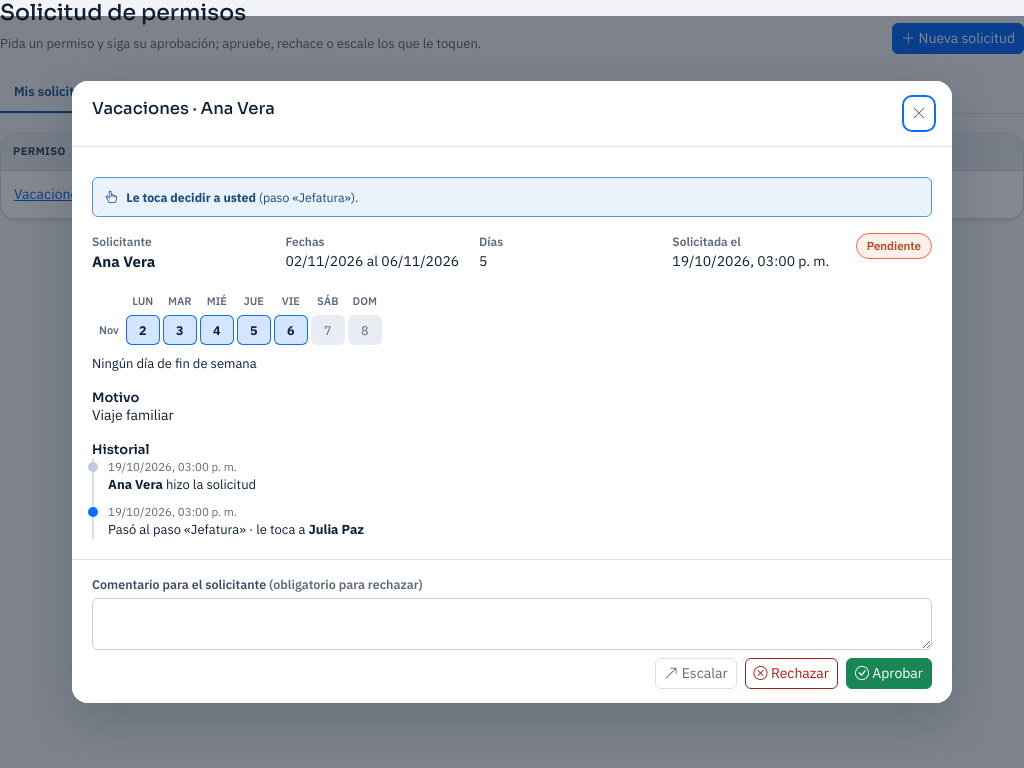
Test case: Solicitud de permisos › el detalle (desde el aviso de la campana) muestra el historial y deja aprobar
Expected: the text "Pasó al paso «Jefatura» · le toca a Julia Paz" is shown, 108,521 -> 364,538
Expected: the text "Le toca decidir a usted" is shown, 126,189 -> 256,205
Type "De acuerdo" into the text box labelled "Comentario para el solicitante (obligatorio para rechazar)" at [512, 624], box 92,598 -> 932,650
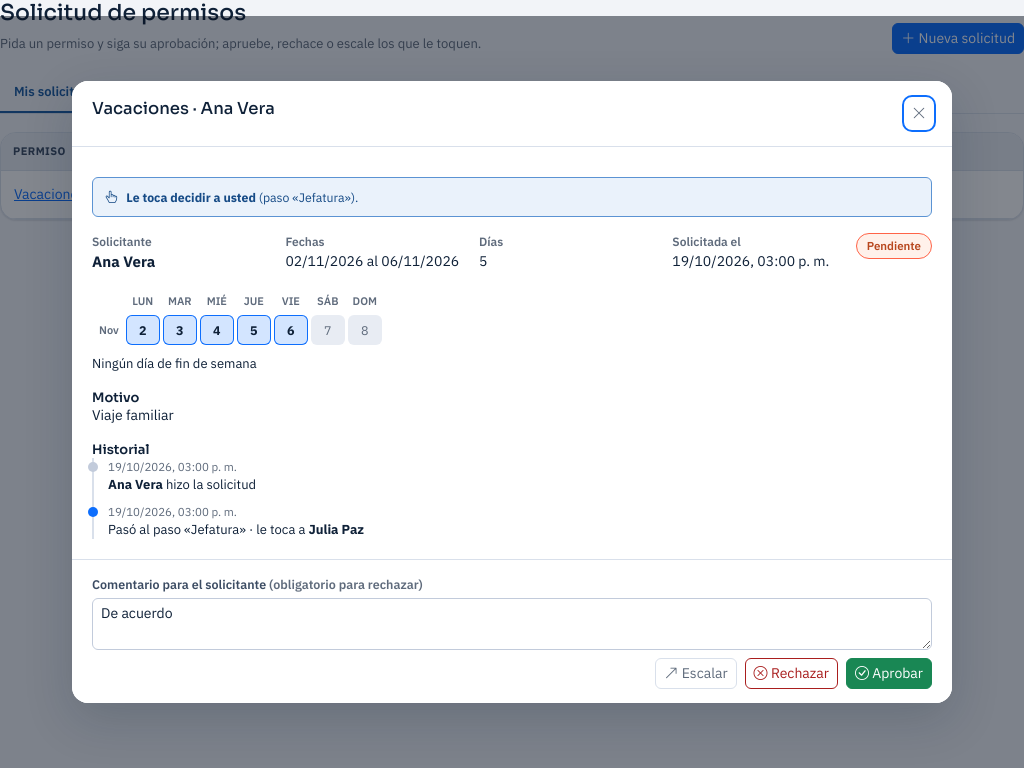
Click the button "Aprobar" at [889, 674], box 846,658 -> 932,689
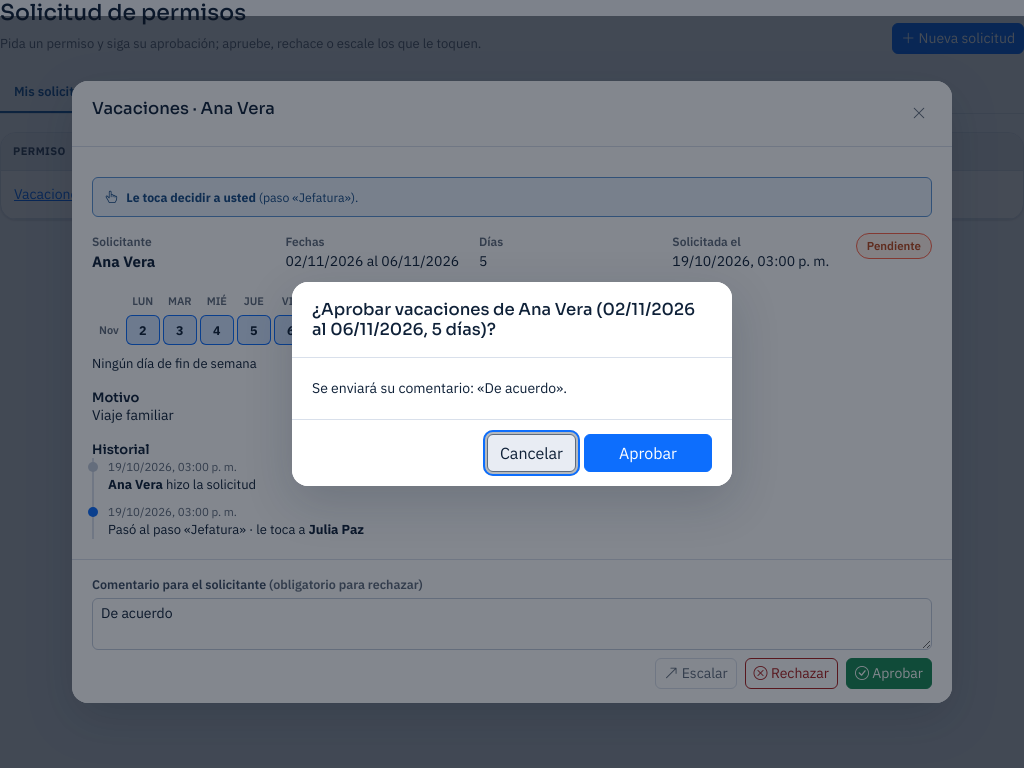
Result: the dialog "¿Aprobar" shows "vacaciones de Ana Vera" at 312,299 -> 695,340
Result: the dialog "¿Aprobar" shows "«De acuerdo»" at 312,379 -> 567,397
Click the button "Aprobar" at [648, 453], box 584,434 -> 712,472
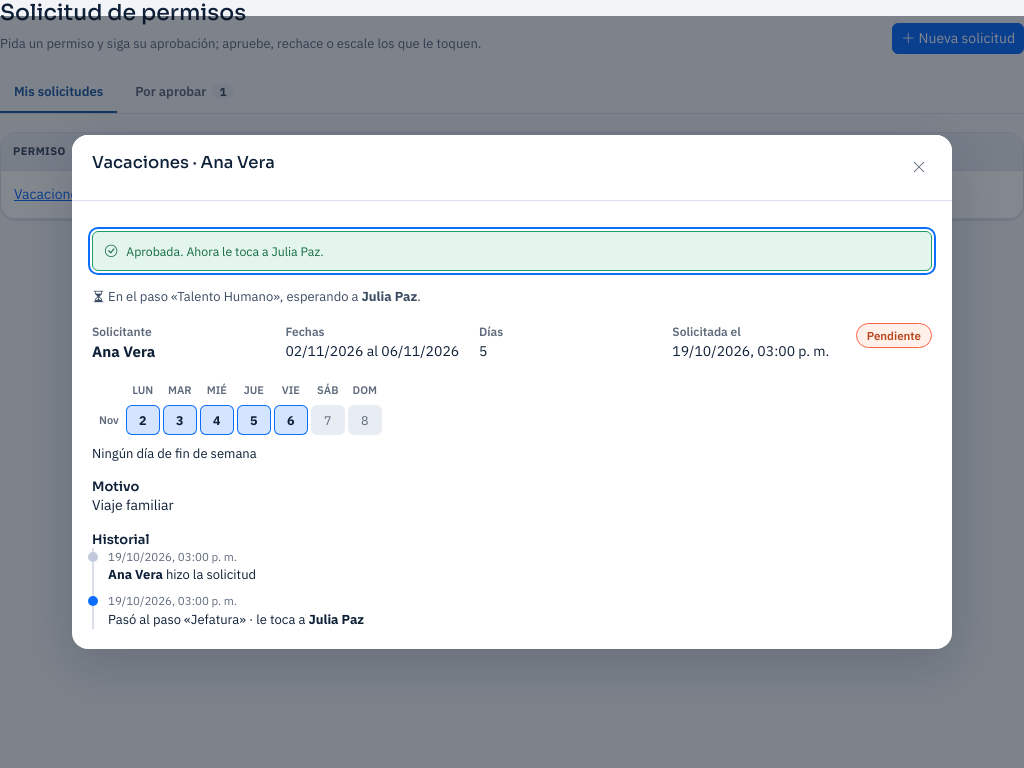
Result: the text "Aprobada. Ahora le toca a Julia Paz." is shown at 92,231 -> 932,271
